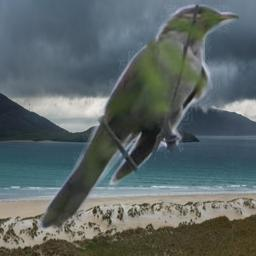Cuckoo: (31, 4, 239, 231)
